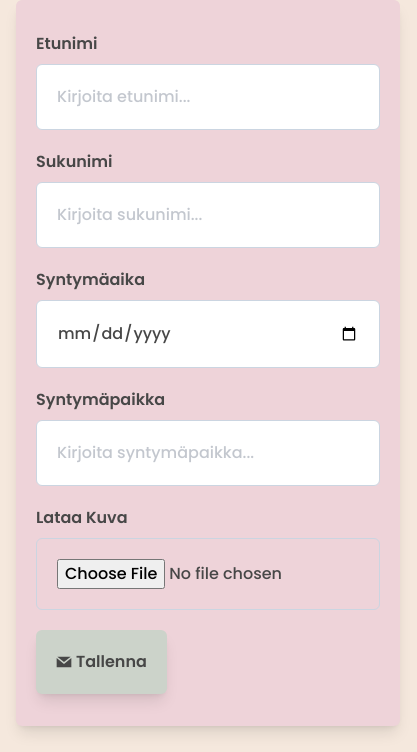
Test: BabyForm Component › renders validation error if required fields are not filled
Step 1. Click the button "Tallenna" → (101, 662), box [36,630,167,694]
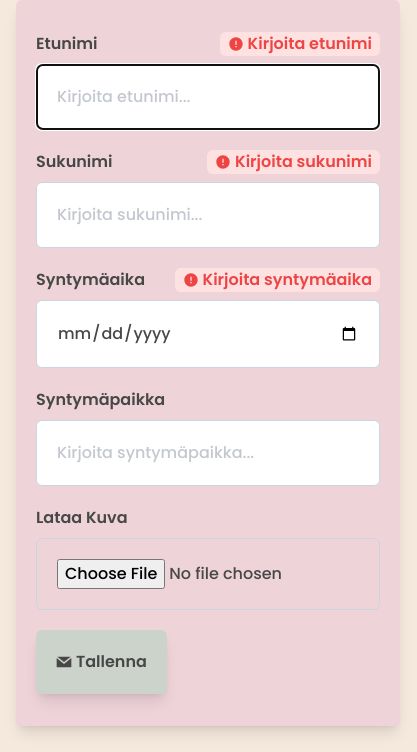
Check: the text "Kirjoita etunimi" is shown, box [220,32,380,56]
Check: the text "Kirjoita sukunimi" is shown, box [207,150,380,174]
Check: the text "Kirjoita syntymäaika" is shown, box [174,268,380,292]
